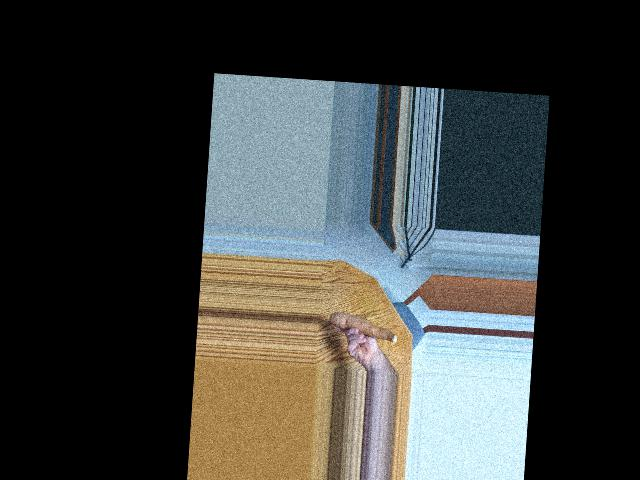sweet_potato: (329, 309, 400, 345)
